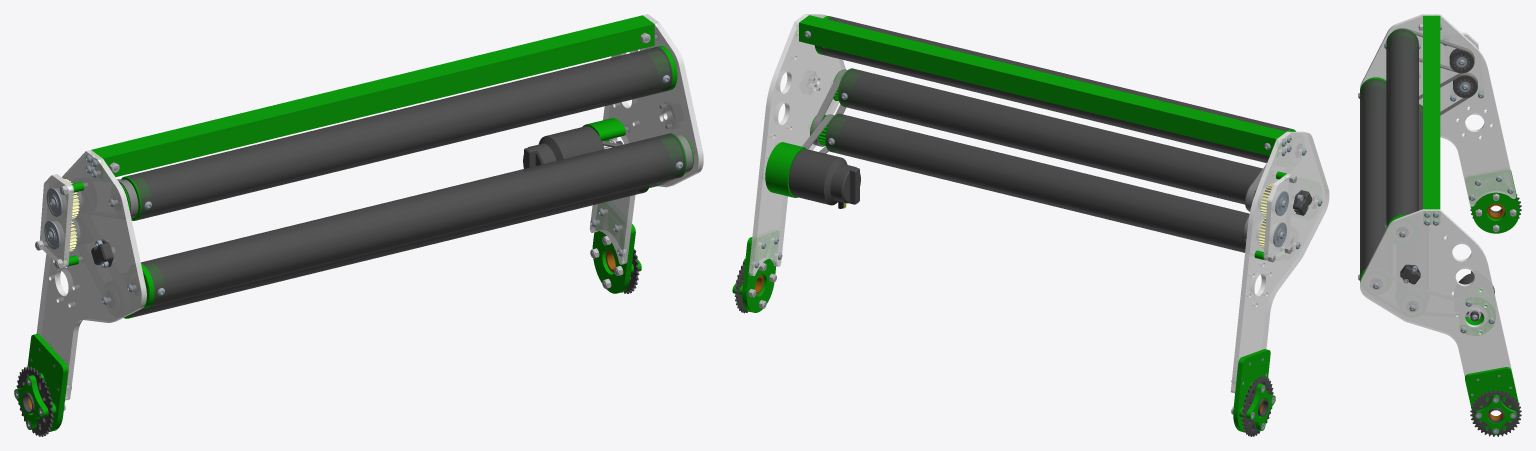
3 renders of one model, left to right at view 1: azimuth 30°, elevation 25°; view 2: azimuth 150°, elevation 25°; view 3: azimuth 270°, elevation 25°, orthographic. The views are drawn at different scales.
Visible parts, largest first — view 1: Tube (×3), 1*1 tube, Ref Intake Plate, polycarb plate, Axle Plate (×2), Simplified Falcon500 V1/V2, Gearbox Plate, 36t Aluminum Plate Sprocket (#25 Chain, SplineXL Bore), Bushing Hat; view 2: Tube (×3), 1*1 tube, Ref Intake Plate, polycarb plate, Simplified Falcon500 V1/V2, Axle Plate (×2), Gearbox Plate, Drive motor spacer, 36t Aluminum Plate Sprocket (#25 Chain, SplineXL Bore), 50T HTD Belt, Bushing Hat; view 3: polycarb plate, Tube (×3), Ref Intake Plate, 1*1 tube, Axle Plate (×2), 36t Aluminum Plate Sprocket (#25 Chain, SplineXL Bore), 60T HTD Belt (×2), 22T Custom Pulley (×2), Bushing Hat, Drive motor spacer, Adafruit Beam Break Cover, Stepped Bushing - 3/4in ID (REV-21-2396) (+1 smaller).
Part boxes in pixels (x1,y1,x2,y2): Tube (×3): [125, 47, 685, 318]; 1*1 tube: [91, 15, 654, 179]; Ref Intake Plate: [36, 150, 146, 400]; polycarb plate: [589, 14, 703, 264]; Axle Plate (×2): [27, 202, 635, 431]; Simplified Falcon500 V1/V2: [523, 126, 604, 168]; Gearbox Plate: [39, 174, 73, 267]; 36t Aluminum Plate Sprocket (#25 Chain, SplineXL Bore): [16, 366, 53, 436]; Bushing Hat: [14, 375, 48, 429]; Tube (×3): [819, 17, 1291, 252]; 1*1 tube: [799, 15, 1286, 156]; Ref Intake Plate: [1230, 131, 1329, 393]; polycarb plate: [748, 14, 845, 275]; Simplified Falcon500 V1/V2: [788, 149, 860, 208]; Axle Plate (×2): [742, 231, 1270, 432]; Gearbox Plate: [1263, 173, 1292, 260]; Drive motor spacer: [765, 142, 806, 197]; 36t Aluminum Plate Sprocket (#25 Chain, SplineXL Bore): [1241, 376, 1273, 436]; 50T HTD Belt: [810, 69, 847, 146]; Bushing Hat: [1246, 383, 1275, 430]; polycarb plate: [1360, 209, 1516, 390]; Tube (×3): [1360, 29, 1422, 276]; Ref Intake Plate: [1360, 14, 1516, 206]; 1*1 tube: [1423, 15, 1440, 220]; Axle Plate (×2): [1465, 170, 1519, 429]; 36t Aluminum Plate Sprocket (#25 Chain, SplineXL Bore): [1470, 390, 1521, 436]; 60T HTD Belt (×2): [1393, 28, 1477, 115]; 22T Custom Pulley (×2): [1449, 48, 1477, 97]; Bushing Hat: [1475, 395, 1516, 434]; Drive motor spacer: [1460, 289, 1495, 335]; Adafruit Beam Break Cover: [1400, 264, 1420, 284]; Stepped Bushing - 3/4in ID (REV-21-2396): [1486, 203, 1505, 218].
Size of the model in its own units: 0.7382 by 0.3615 by 0.2419.
